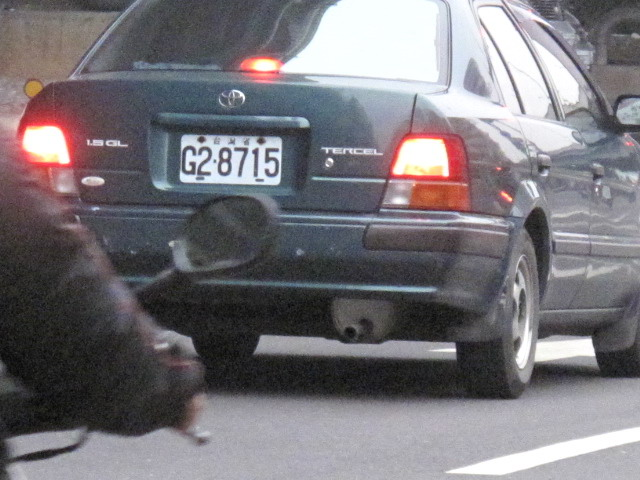plate: (177, 131, 286, 189)
